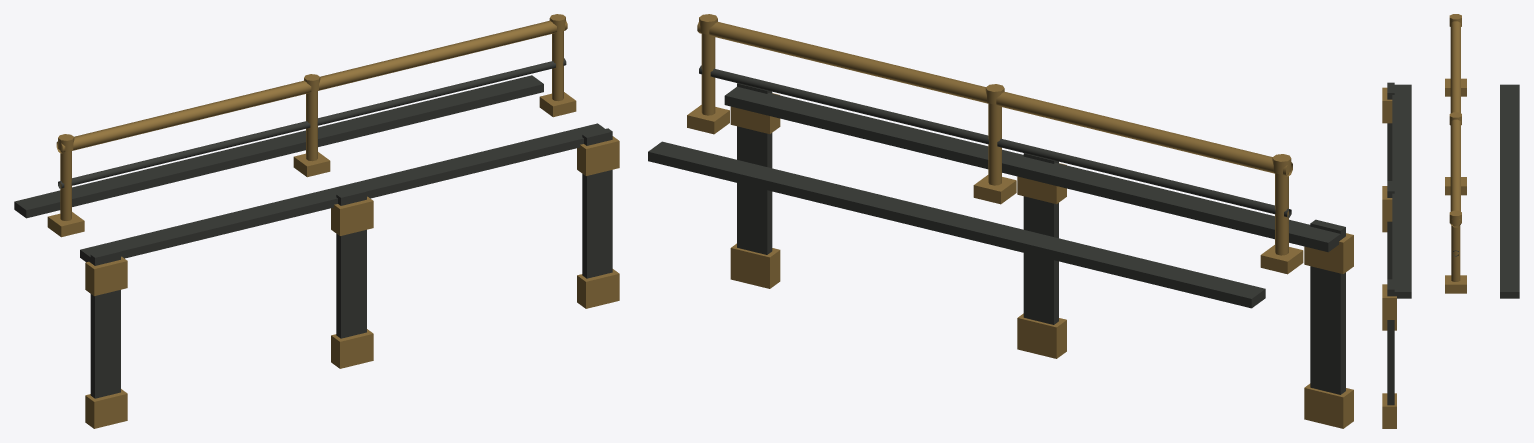
Rendered from parapet_rail_4.glb.
The picture shows the model from 3 angles, left to right: view 1: azimuth 30°, elevation 25°; view 2: azimuth 150°, elevation 25°; view 3: azimuth 270°, elevation 25°; orthographic projection. The views are drawn at different scales.
Visible parts, largest first — view 1: parapet_rail_4; view 2: parapet_rail_4; view 3: parapet_rail_4.
Part boxes in pixels (<box>): parapet_rail_4: <box>14,14,619,428</box>; parapet_rail_4: <box>648,14,1353,428</box>; parapet_rail_4: <box>1382,14,1519,428</box>.
Bounding box in the file's own units: 4.06 × 1.88 × 1.12.
